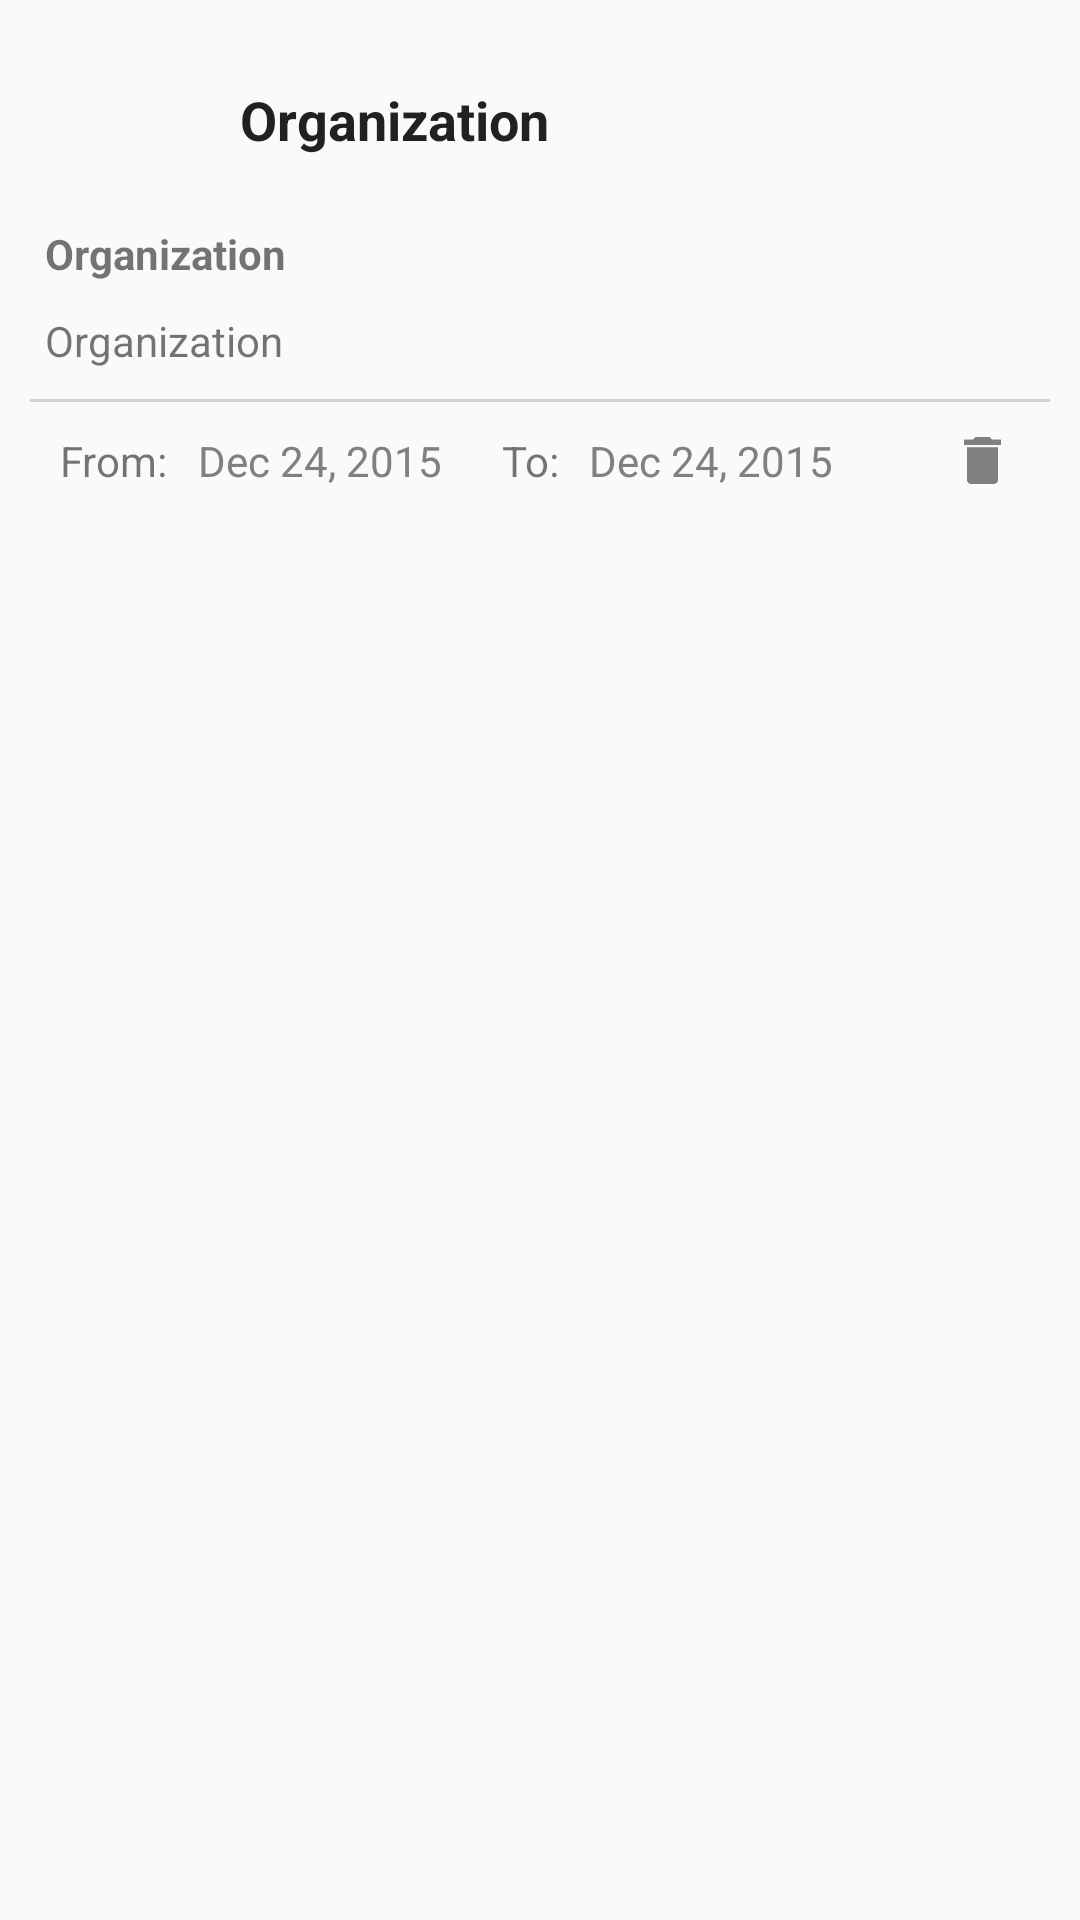

Where to tap for icons on this 1080x1920 app screen, as [x,y]:
delete: [982,460]
